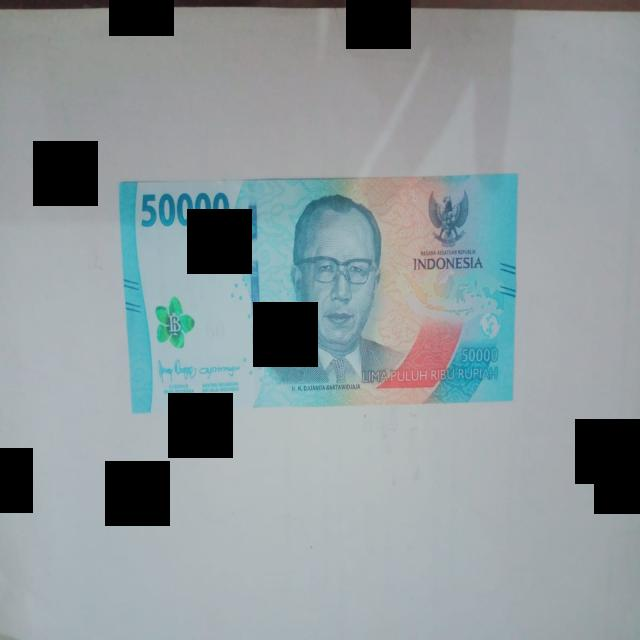lima puluh ribu rupiah: (120, 175, 518, 413)
